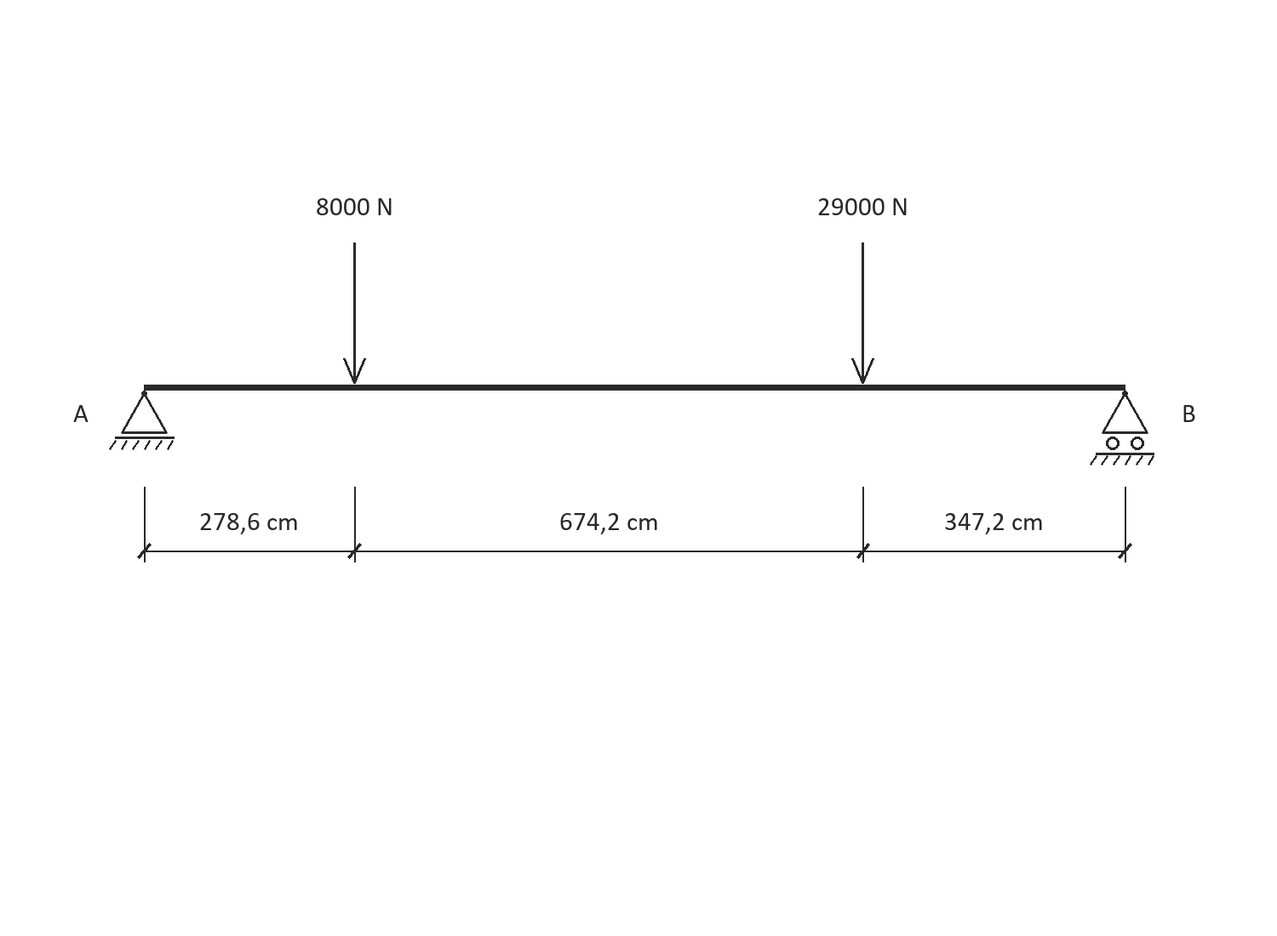pin_support: (109, 391, 175, 450)
point_load: (343, 243, 366, 384), (851, 243, 874, 384)
roller_support: (1090, 391, 1154, 465)
